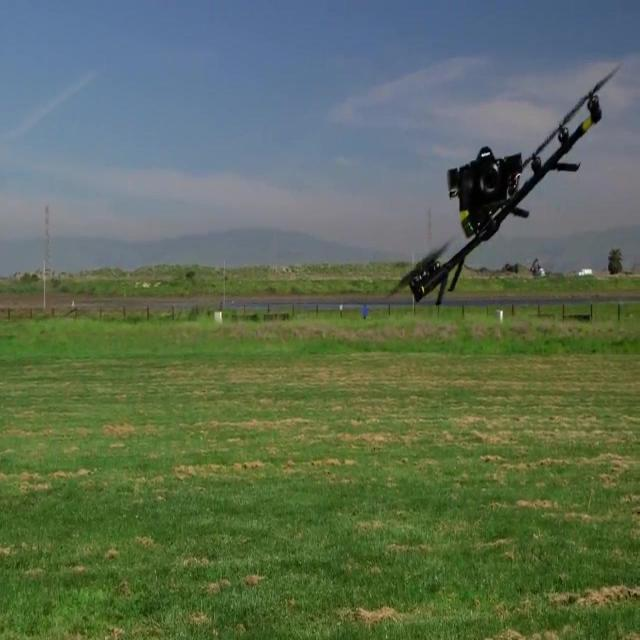drone: (390, 61, 622, 309)
